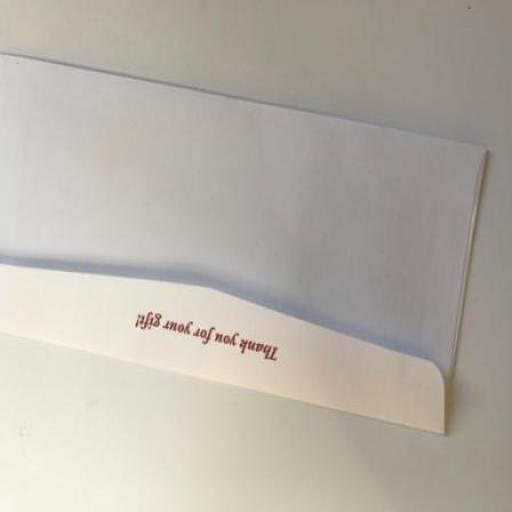paper: (0, 41, 499, 442)
